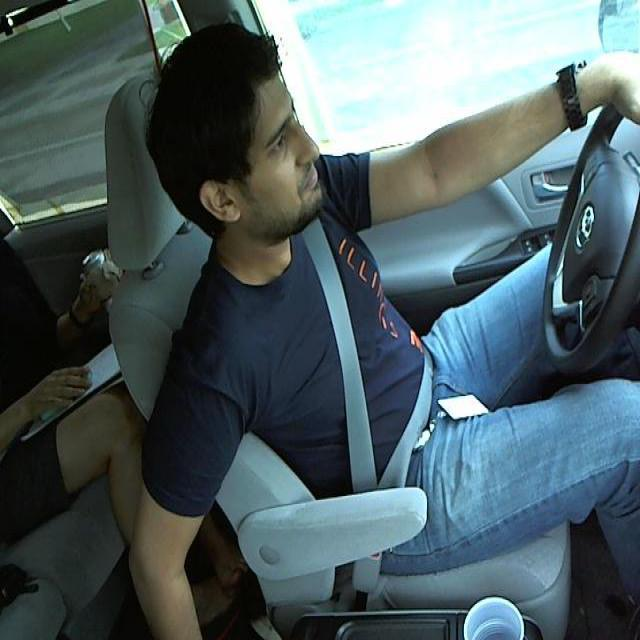seatbelt: (288, 241, 432, 476)
